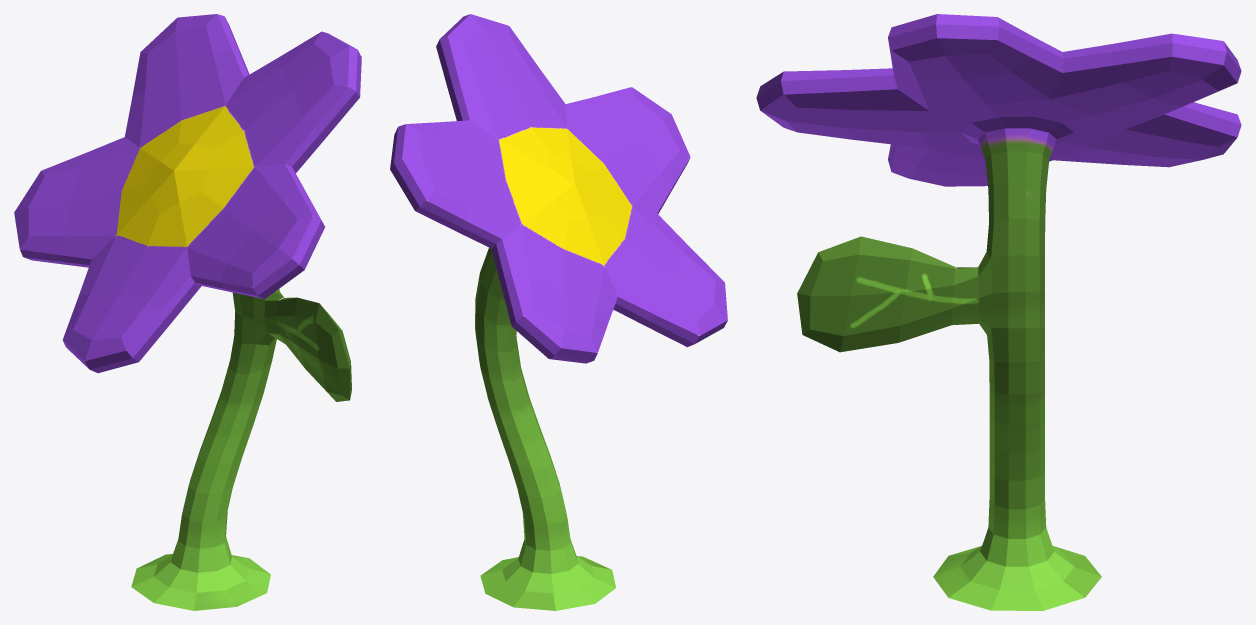
File: flor morada.fbx
The picture shows the model from 3 angles, left to right: view 1: azimuth 30°, elevation 25°; view 2: azimuth 150°, elevation 25°; view 3: azimuth 270°, elevation 25°; orthographic projection. The views are drawn at different scales.
Visible parts, largest first — view 1: floar nora; view 2: floar nora; view 3: floar nora.
Part boxes in pixels (x1=…): floar nora: x1=14, y1=14, x2=361, y2=610; floar nora: x1=390, y1=14, x2=727, y2=610; floar nora: x1=756, y1=14, x2=1241, y2=610.
Bounding box in the file's own units: 157 × 287 × 201.
1 material, 1 textured.
